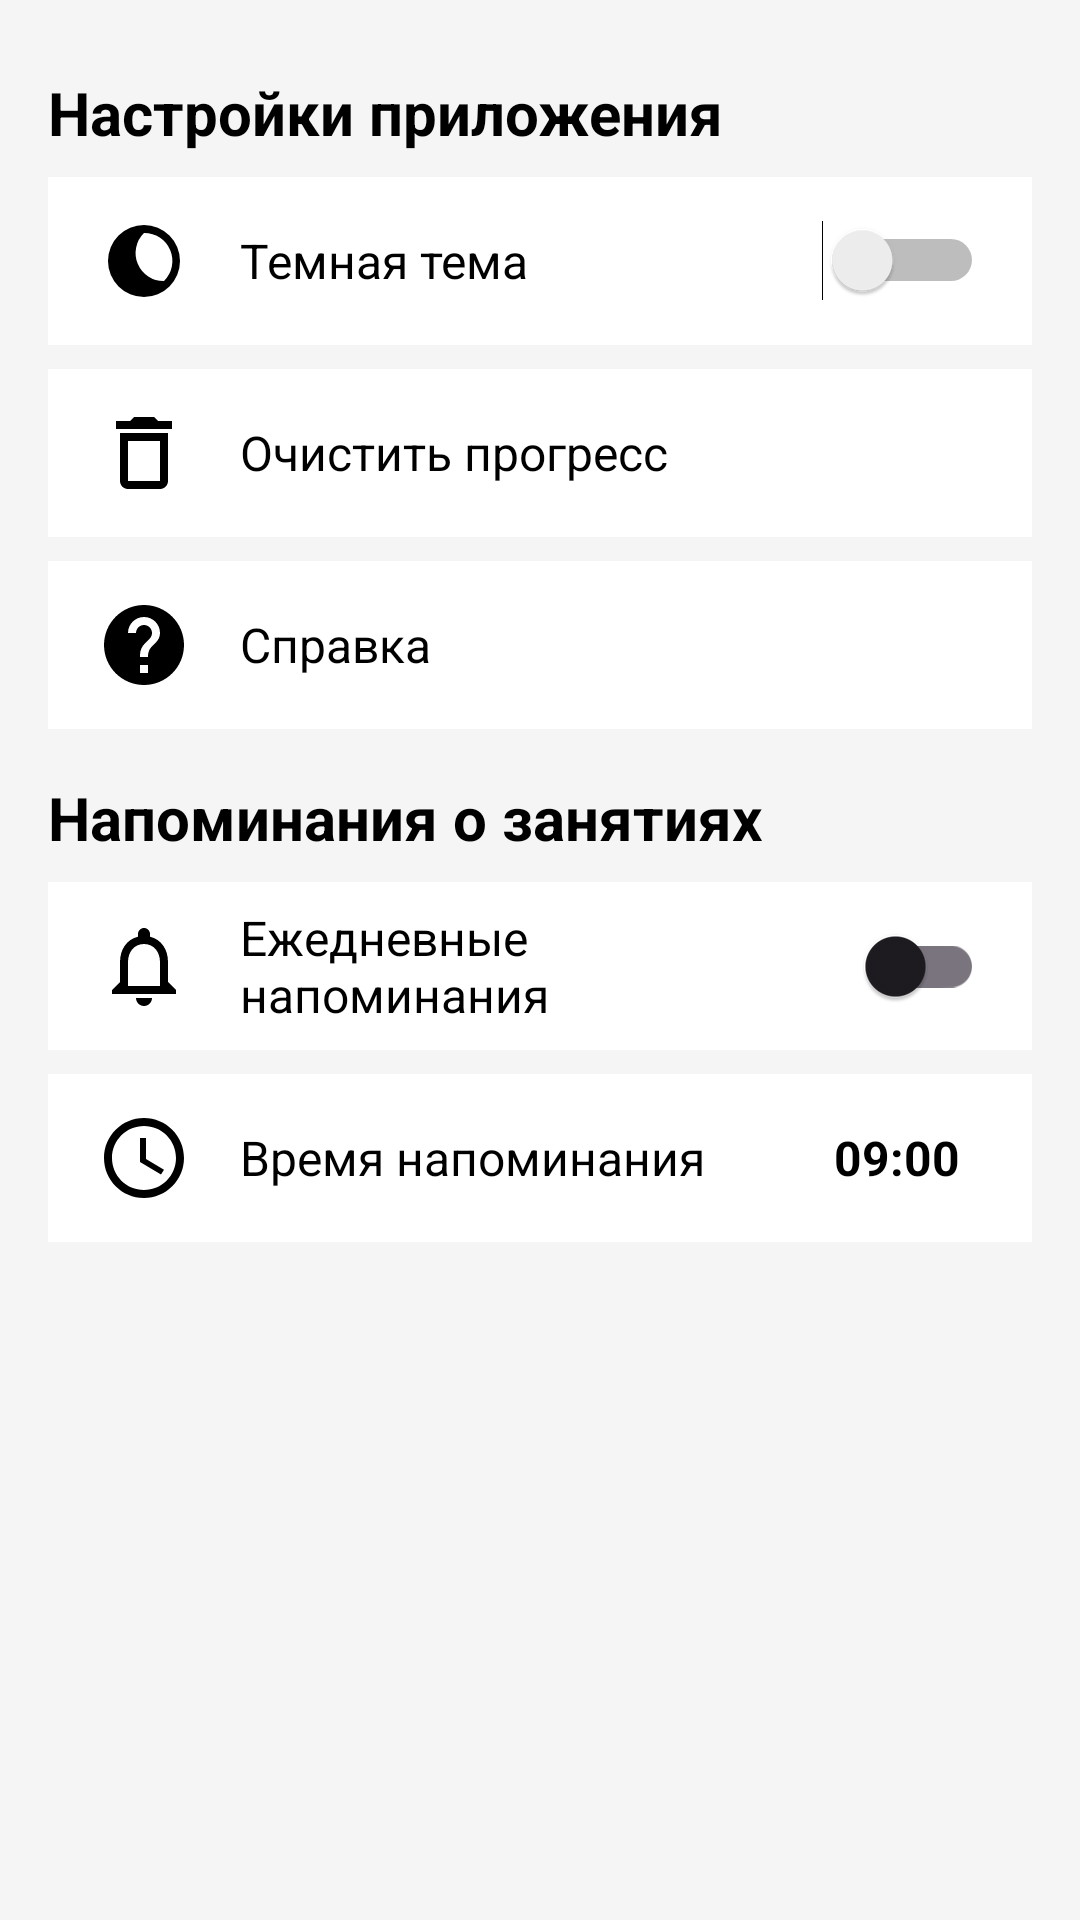

Named icons in this screenshot (1080w x 1920h) and their bounding boxes, [x1=x1, y1=y1, x2=x2, y2=y2]:
delete: [x1=116, y1=417, x2=172, y2=489]
help: [x1=104, y1=605, x2=184, y2=685]
notification: [x1=112, y1=928, x2=176, y2=1006]
theme: [x1=108, y1=225, x2=180, y2=297]
time: [x1=104, y1=1118, x2=184, y2=1198]
